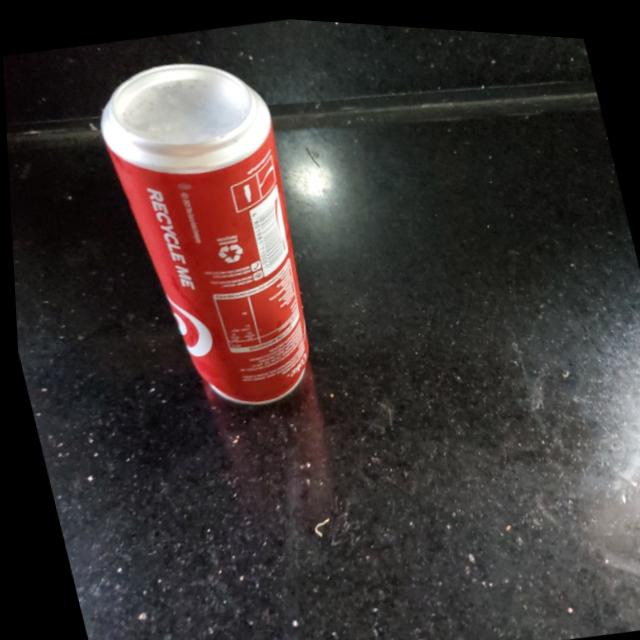coke: (90, 39, 337, 417)
